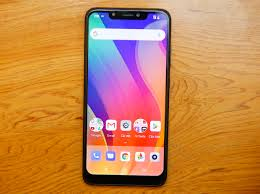vsmart: (81, 6, 172, 187)
